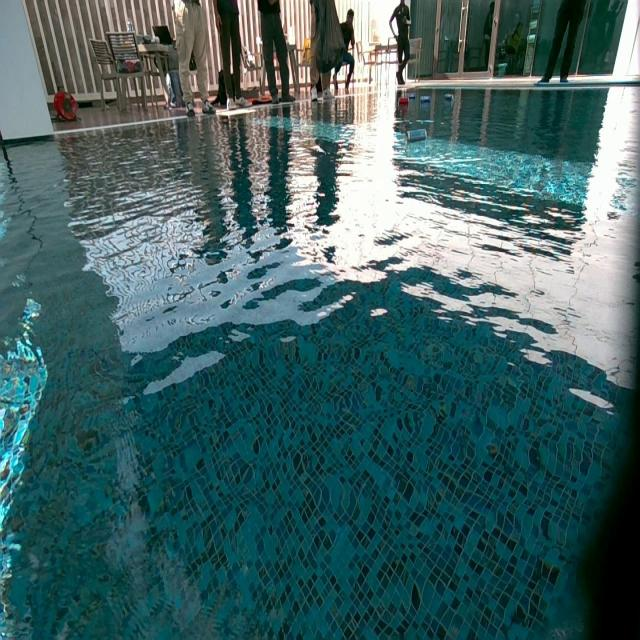Cans: (406, 130, 428, 144), (398, 98, 409, 108), (420, 97, 430, 106), (445, 95, 454, 104), (408, 93, 415, 100)
